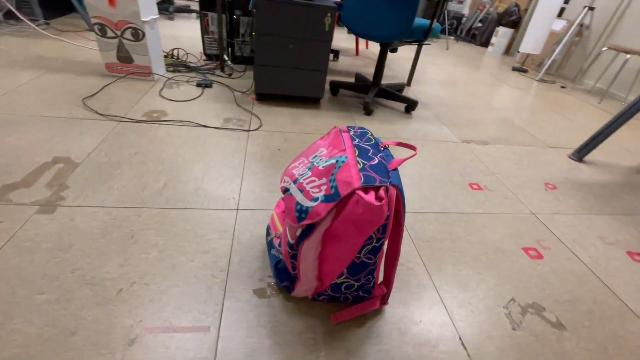Backpack: (258, 120, 424, 330)
Lamp: (508, 0, 568, 76)
Stool: (566, 40, 640, 108)
